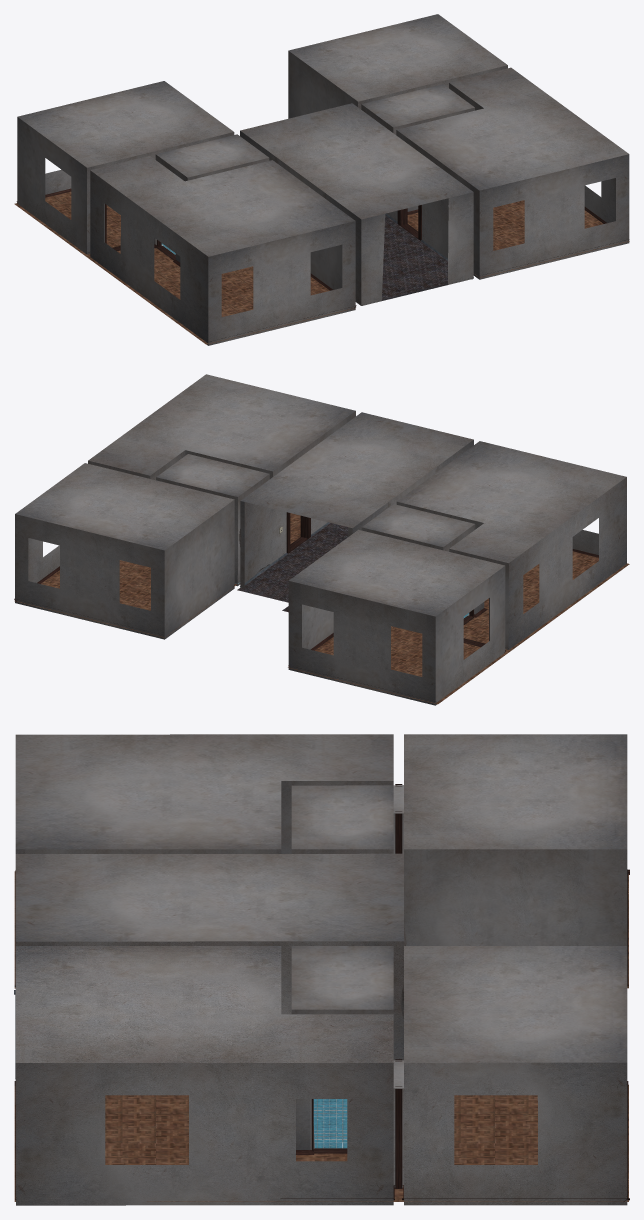
3 renders of one model, top to bottom at view 1: azimuth 30°, elevation 25°; view 2: azimuth 150°, elevation 25°; view 3: azimuth 270°, elevation 25°, orthographic. The views are drawn at different scales.
Parts seen in each view (by area): view 1: FOB_S_2; view 2: FOB_S_2; view 3: FOB_S_2.
Part boxes in pixels (left/top/right/bottom): FOB_S_2: left=14, top=14, right=629, bottom=345; FOB_S_2: left=14, top=374, right=629, bottom=705; FOB_S_2: left=14, top=734, right=629, bottom=1205.
Size of what is drawn, in the model's own units: 3790 by 762 by 2980.
